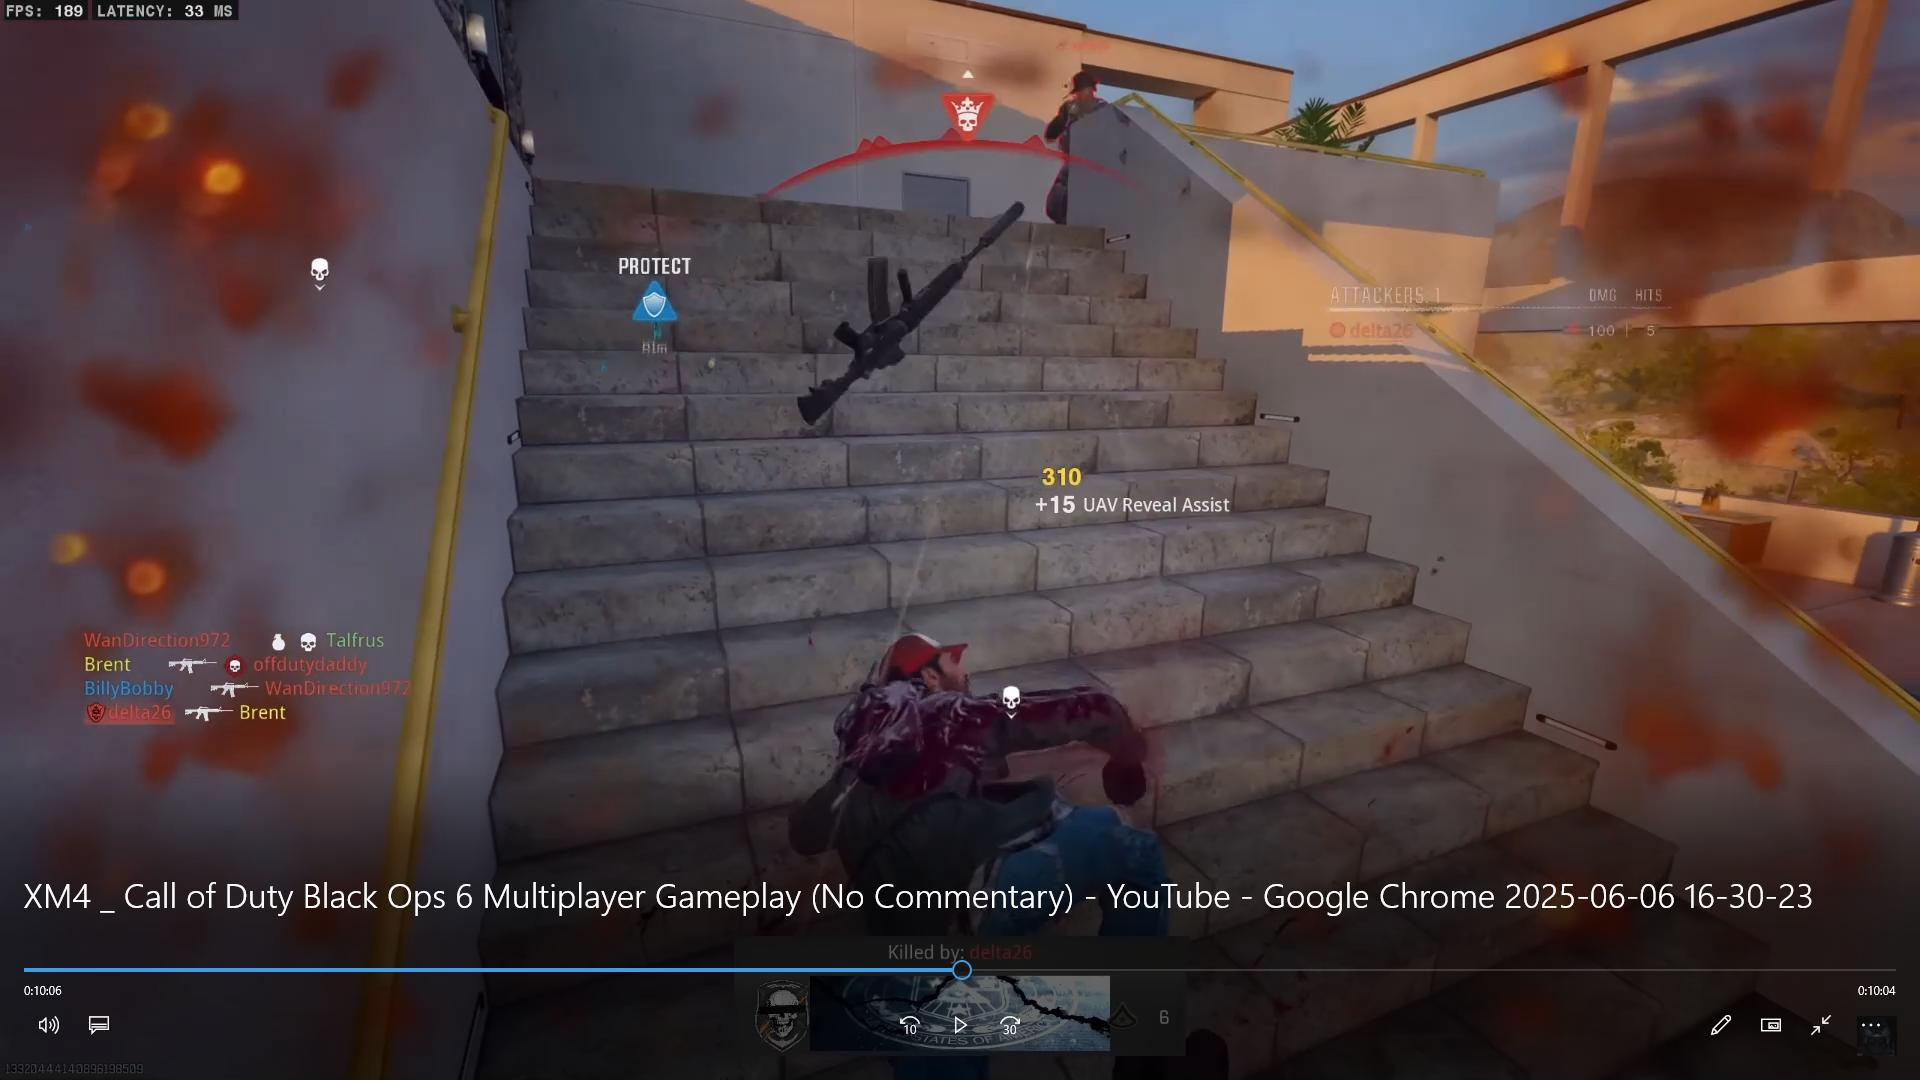Enemy: (1055, 65, 1114, 121)
